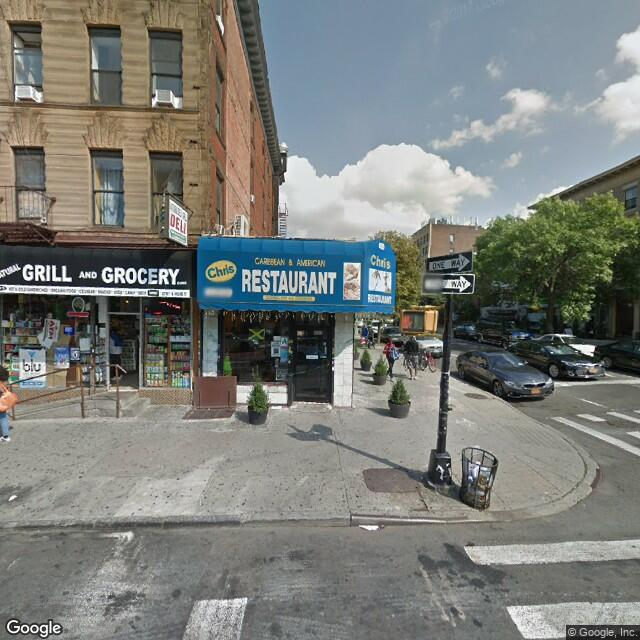litter: (356, 524, 379, 533), (8, 494, 18, 501), (273, 405, 281, 411)
